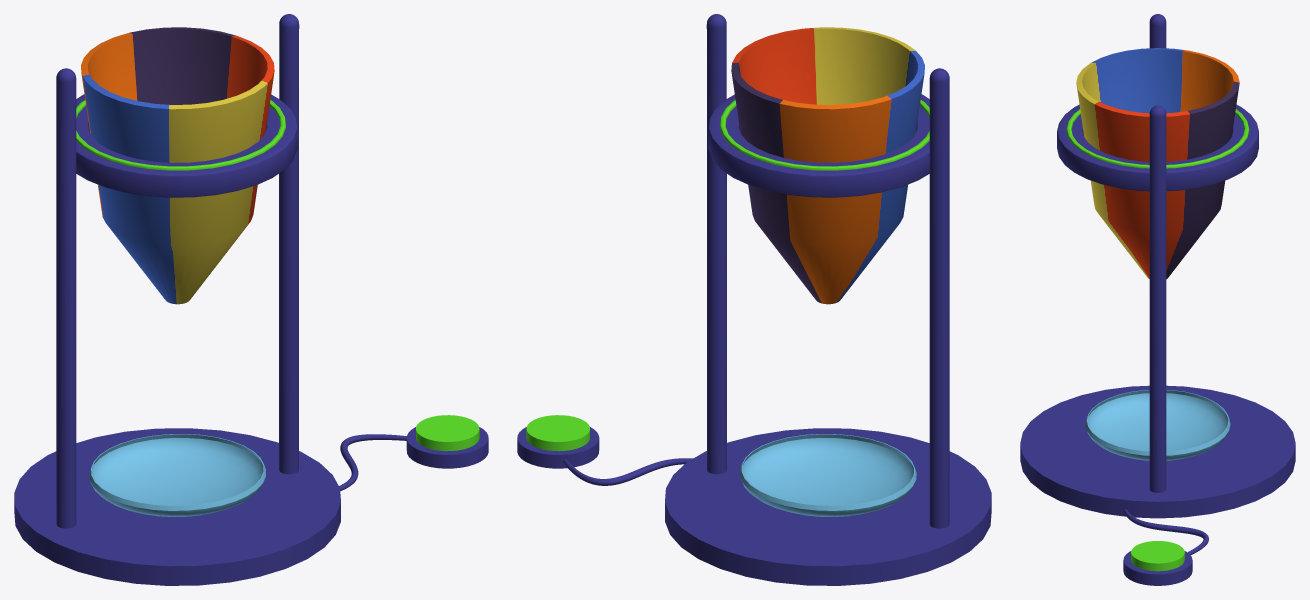
The model's file is Mixer.fbx.
The picture shows the model from 3 angles, left to right: view 1: azimuth 30°, elevation 25°; view 2: azimuth 150°, elevation 25°; view 3: azimuth 270°, elevation 25°; orthographic projection. The views are drawn at different scales.
Parts seen in each view (by area): view 1: MixerUnited; view 2: MixerUnited; view 3: MixerUnited.
Part boxes in pixels (x1,y1,x2,y2): MixerUnited: [14, 14, 488, 585]; MixerUnited: [517, 14, 991, 585]; MixerUnited: [1020, 14, 1295, 585].
Bounding box in the file's own units: 50.13 × 50.89 × 31.78.
